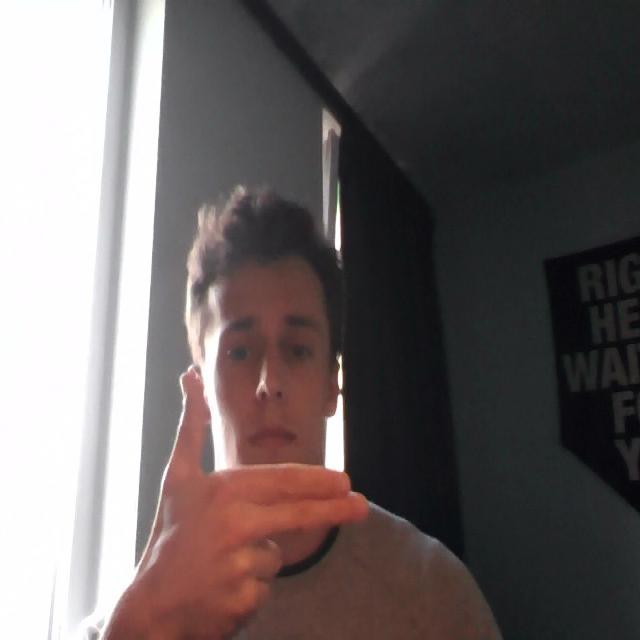right: (128, 356, 388, 639)
